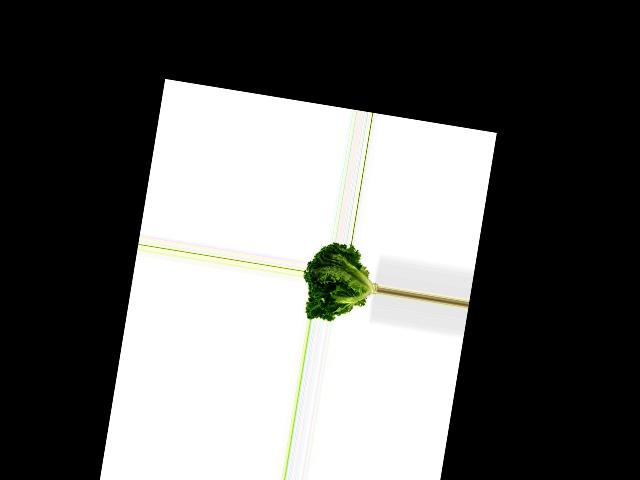lettuce: (297, 238, 384, 328)
